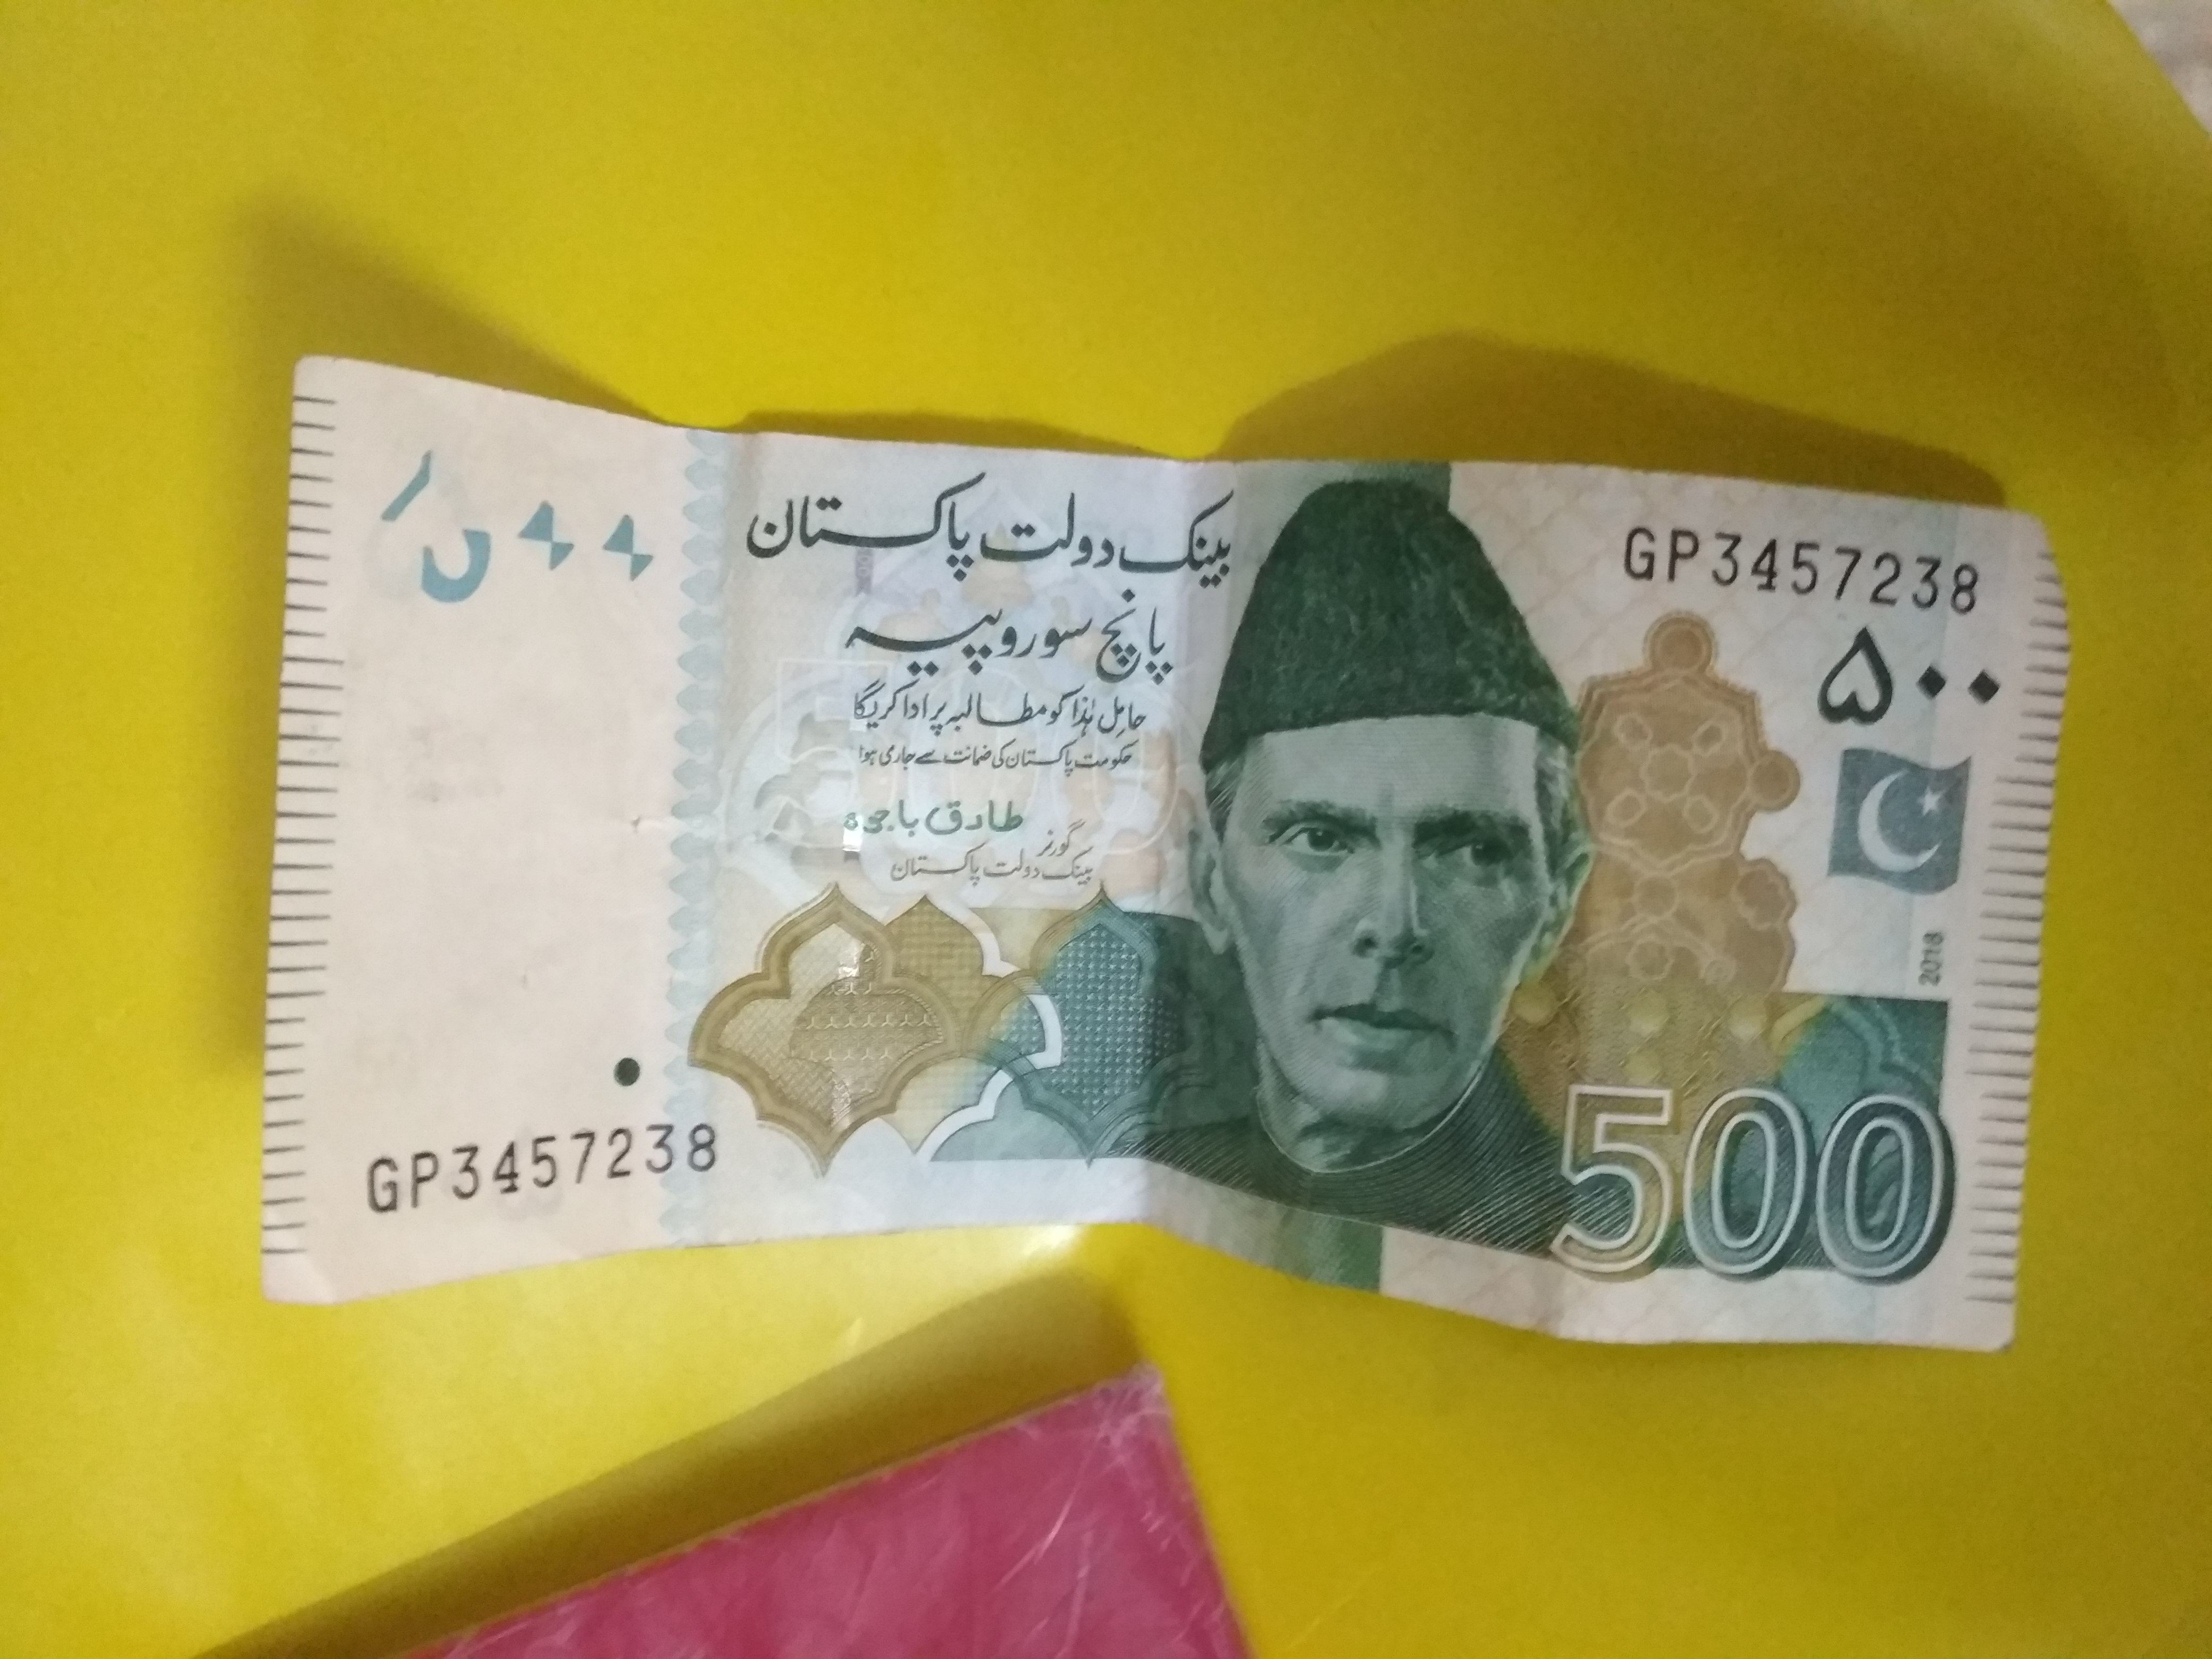500 rupee: (230, 296, 2087, 1486)
